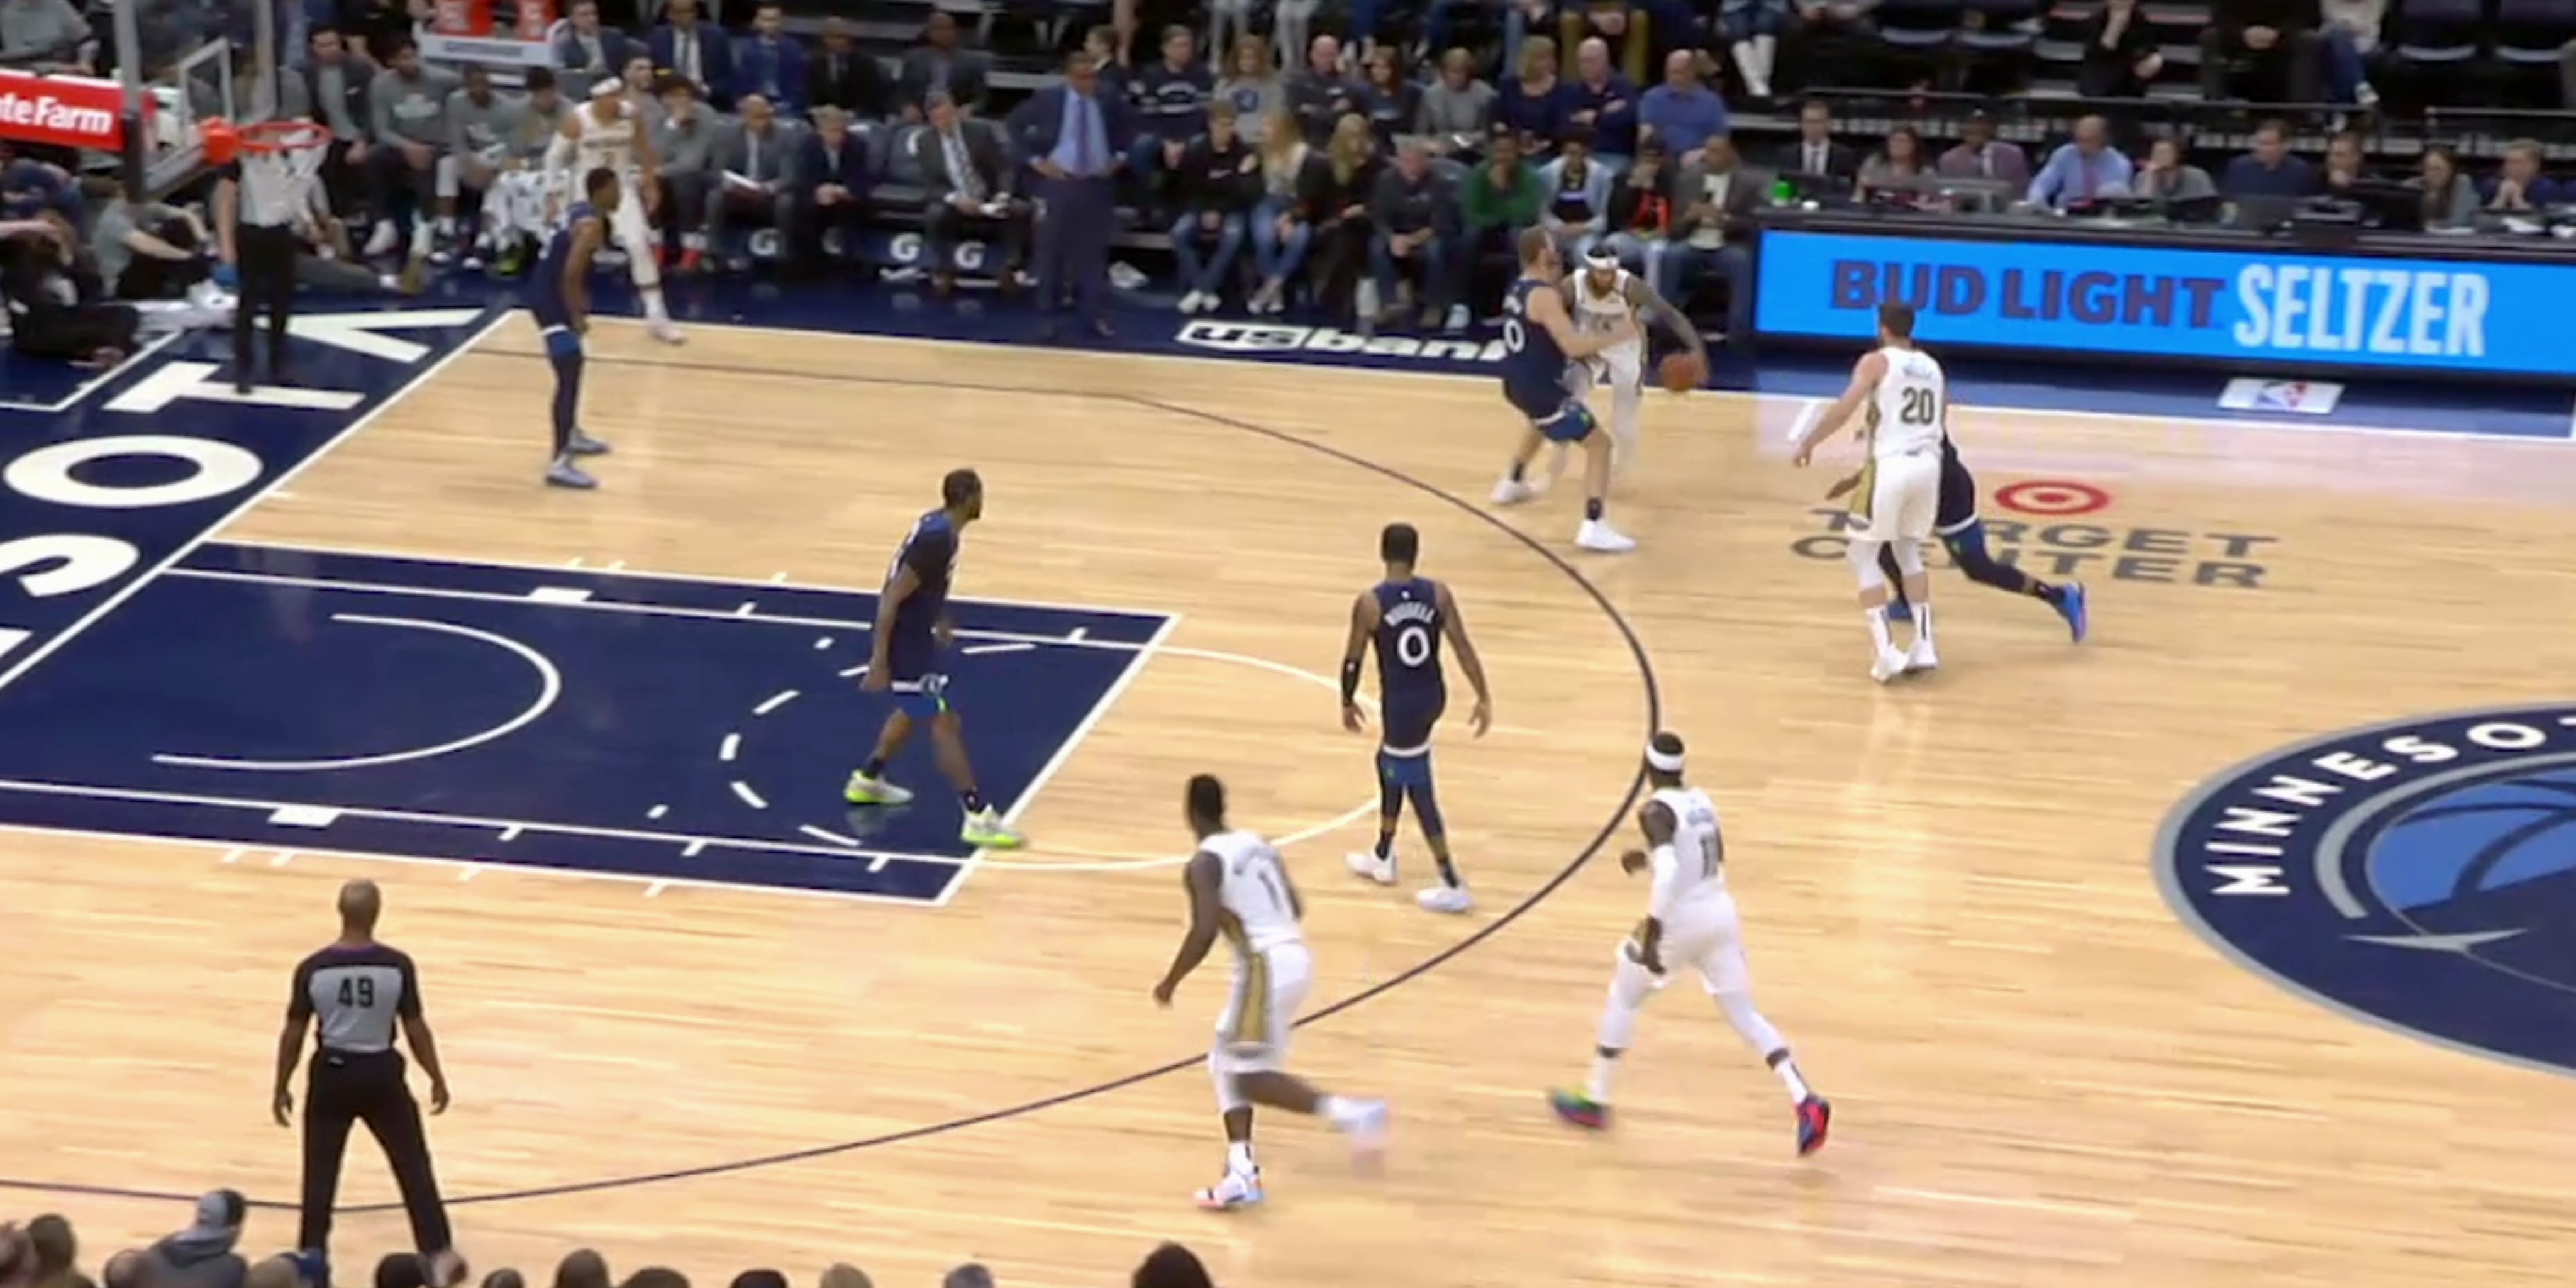Foul: (1477, 209, 1710, 567)
